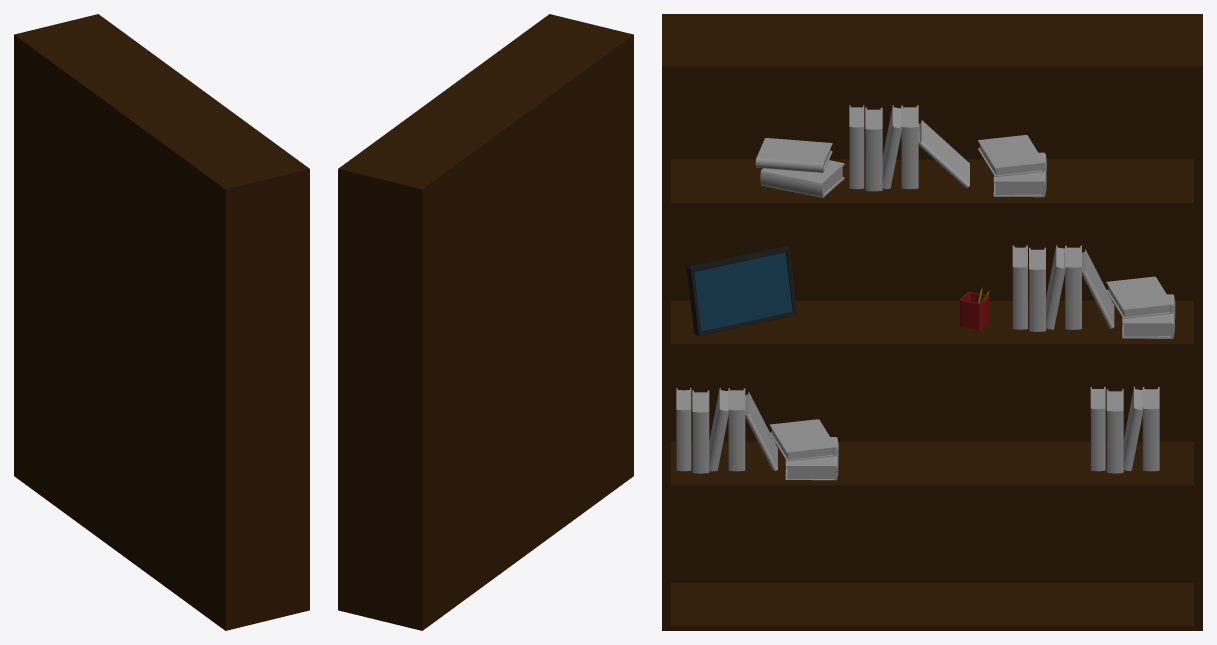
Rendered from RE_RLivingBShelf.FBX.
The picture shows the model from 3 angles, left to right: view 1: azimuth 30°, elevation 25°; view 2: azimuth 150°, elevation 25°; view 3: azimuth 270°, elevation 25°; orthographic projection. The views are drawn at different scales.
Parts seen in each view (by area): view 1: RE_RLivingBShelf; view 2: RE_RLivingBShelf; view 3: RE_RLivingBShelf.
Part boxes in pixels (<box>): RE_RLivingBShelf: <box>14,14,309,630</box>; RE_RLivingBShelf: <box>338,14,633,630</box>; RE_RLivingBShelf: <box>662,14,1202,630</box>.
Bounding box in the file's own units: 29.81 × 149 × 129.
